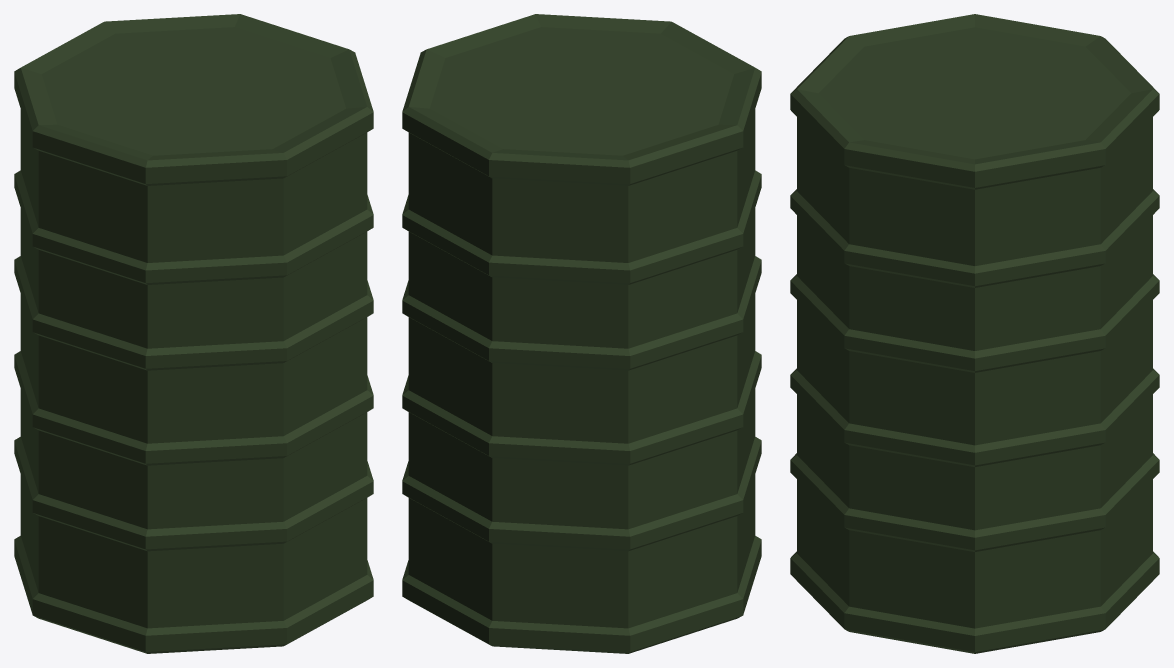
Rendered from Tank.fbx.
3 views of the same model, side by side, from view 1: azimuth 30°, elevation 25°; view 2: azimuth 150°, elevation 25°; view 3: azimuth 270°, elevation 25° (orthographic).
Visible parts, largest first — view 1: Tank; view 2: Tank; view 3: Tank.
Part boxes in pixels (left/top/right/bottom): Tank: left=14, top=14, right=373, bottom=653; Tank: left=402, top=14, right=761, bottom=653; Tank: left=790, top=14, right=1159, bottom=653.
Size of the model in its own units: 50.6 by 74.01 by 50.6.
